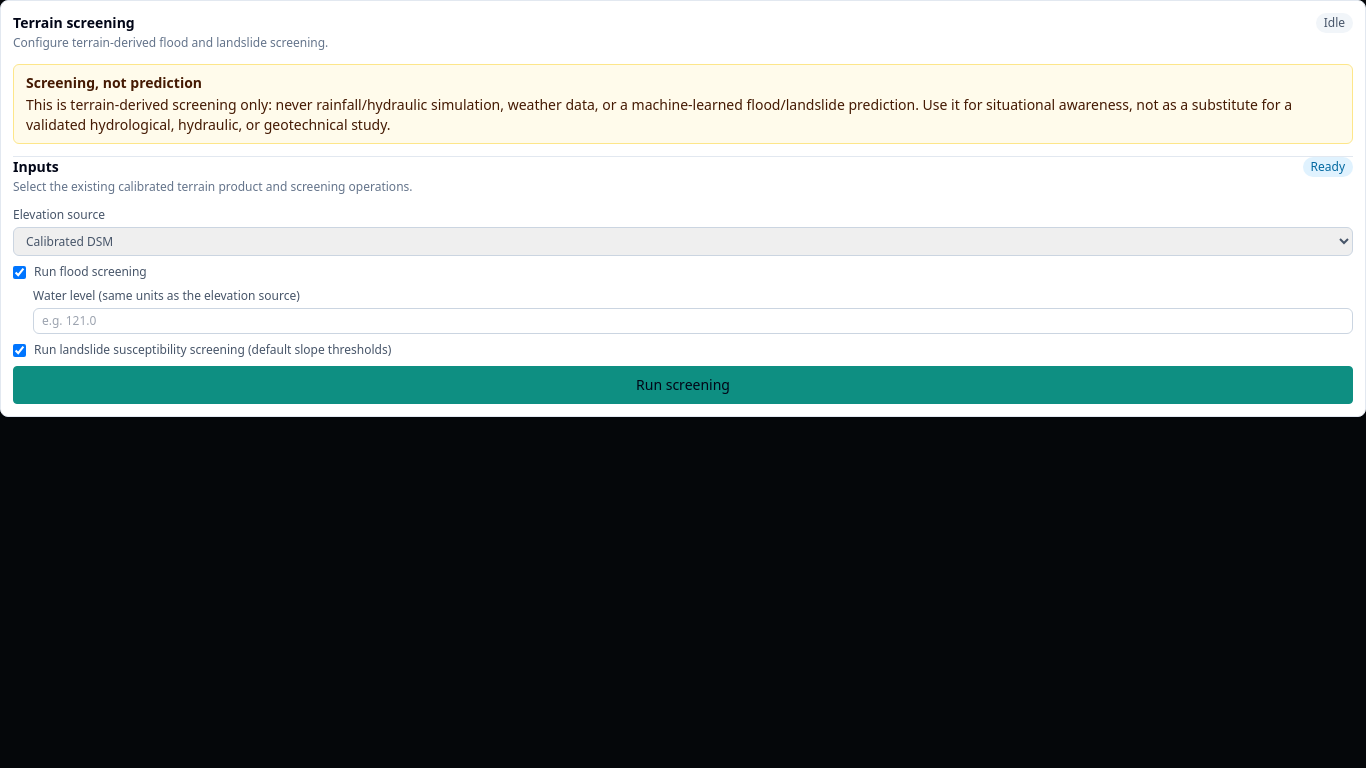
disaster screening state › announces a failed screening with recovery guidance
Type "121" into the number field labelled "Water level (same units as the elevation source)" at {"x": 693, "y": 321}, box 33,308 -> 1353,334
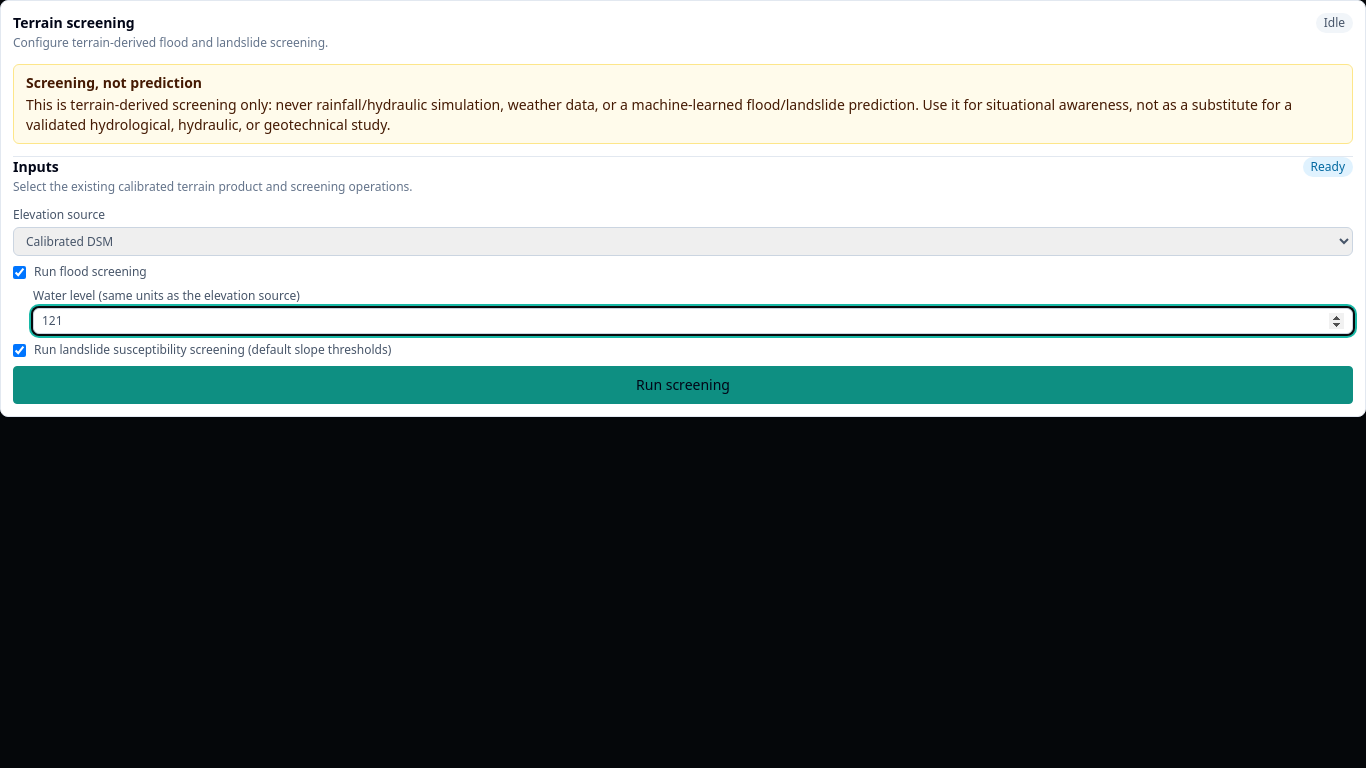
Click the button "Run screening" at {"x": 683, "y": 385}, box 13,366 -> 1353,404
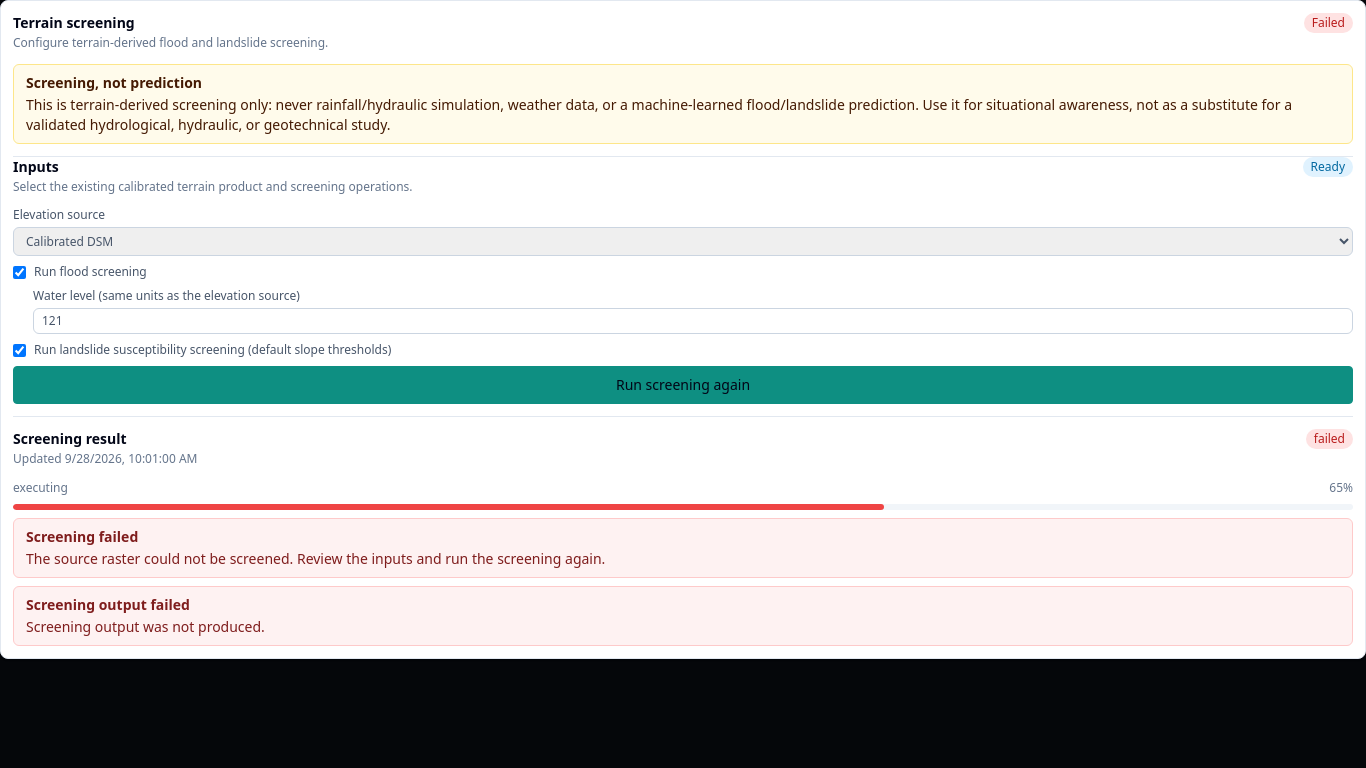
Result: the text "Screening failed" is shown at 26,526 -> 138,546
Result: the message shows "Review the inputs and run the screening again" at 293,548 -> 605,568
